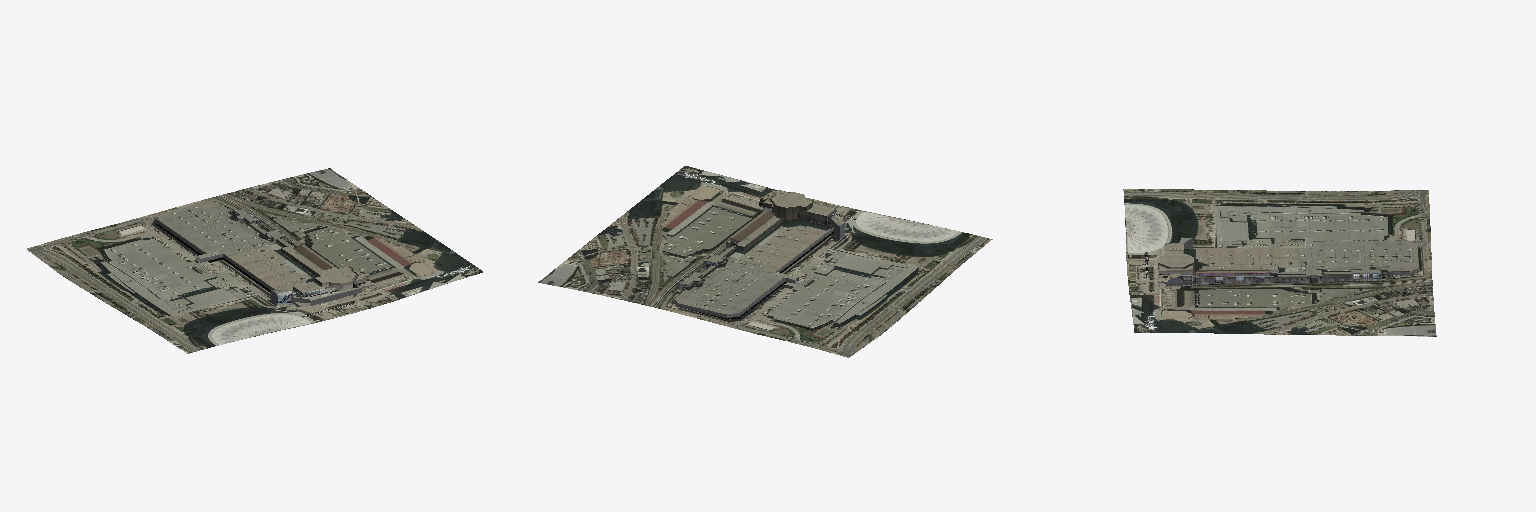
The picture shows the model from 3 angles: view 1: azimuth 30°, elevation 25°; view 2: azimuth 150°, elevation 25°; view 3: azimuth 270°, elevation 25°; orthographic projection.
Parts seen in each view (by area): view 1: object__6, object__30; view 2: object__6, object__30, object__21; view 3: object__6.
Boxes of the visible parts, x1=… form: object__6: x1=27, y1=168, x2=482, y2=353; object__30: x1=157, y1=220, x2=274, y2=292; object__6: x1=538, y1=166, x2=992, y2=357; object__30: x1=674, y1=227, x2=833, y2=319; object__21: x1=718, y1=199, x2=812, y2=263; object__6: x1=1123, y1=189, x2=1436, y2=336.
Size of the model in its own units: 76824 by 5085 by 66962.
Materials: 84 (81 with a texture image).